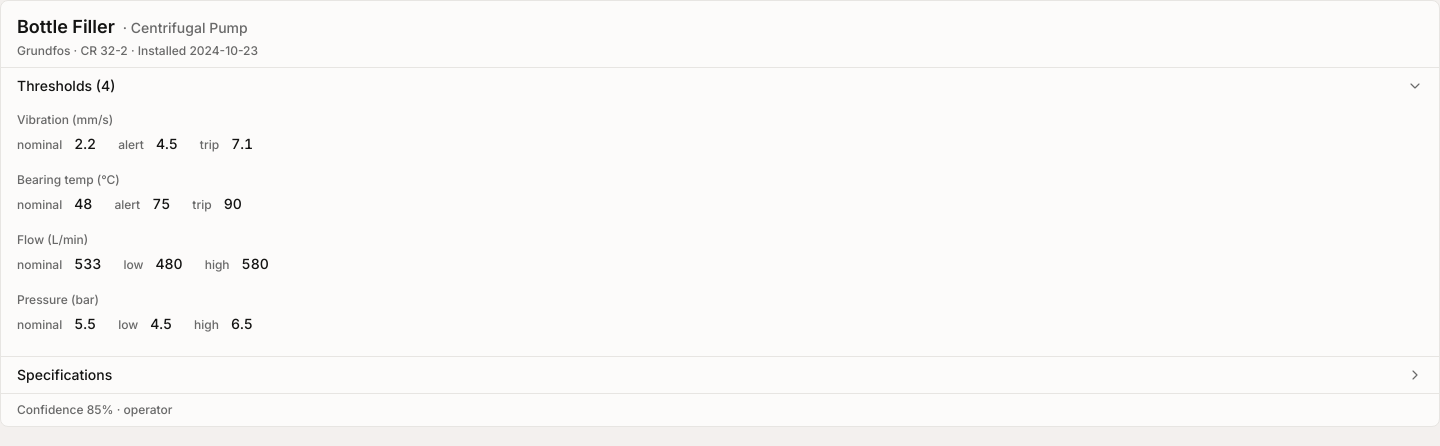
Test case: EquipmentKbCard › cancels edit on Escape without firing a mutation
Click the button with test id "threshold-value-thresholds.vibration_mm_s.alert". click: [167, 144]
box: [150,132,184,156]
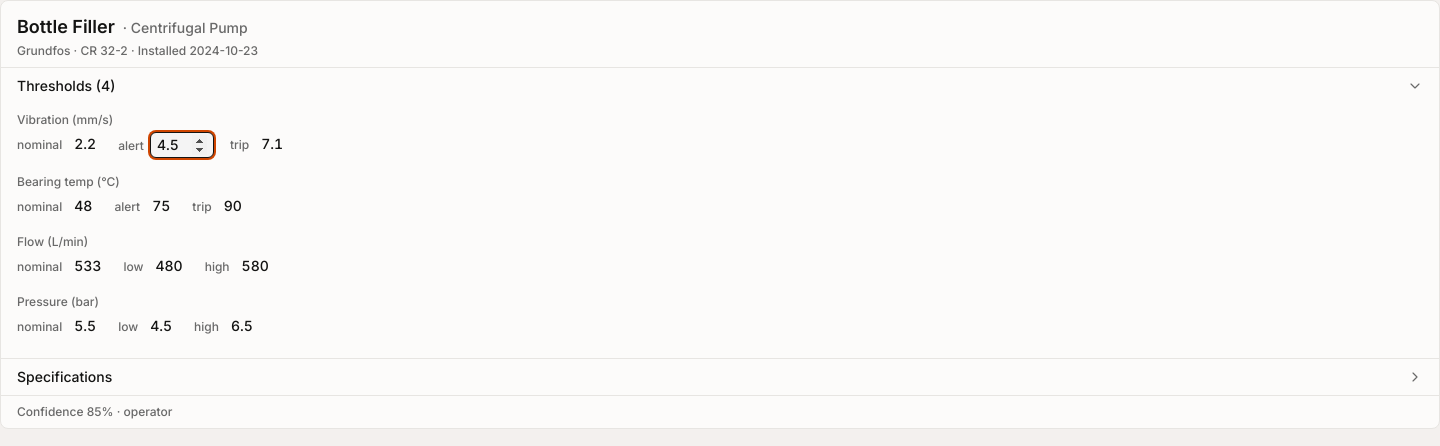
Replace the text in the number field named "Vibration (mm/s) alert" with "9.9". click: [182, 145]
box: [150,132,214,158]
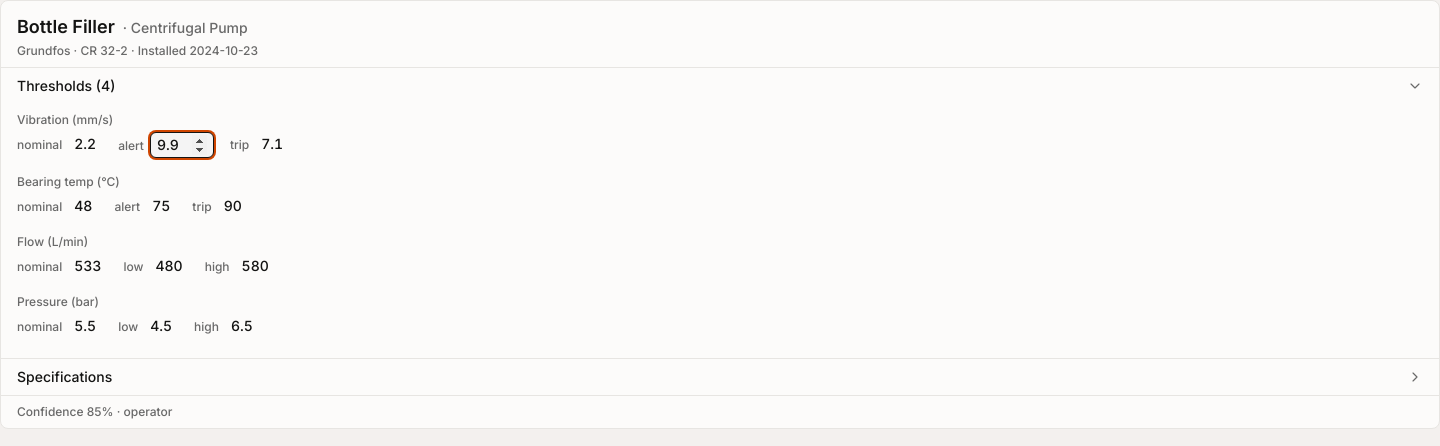
Press Escape
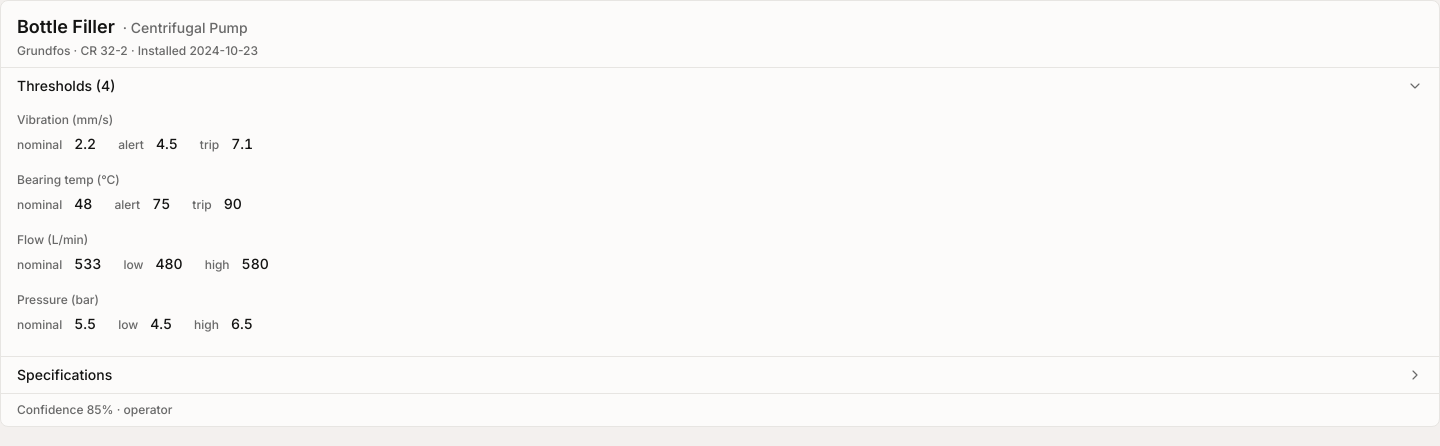
Expected: the button with test id "threshold-value-thresholds.vibration_mm_s.alert" reads "4.5", [150,132,184,156]
